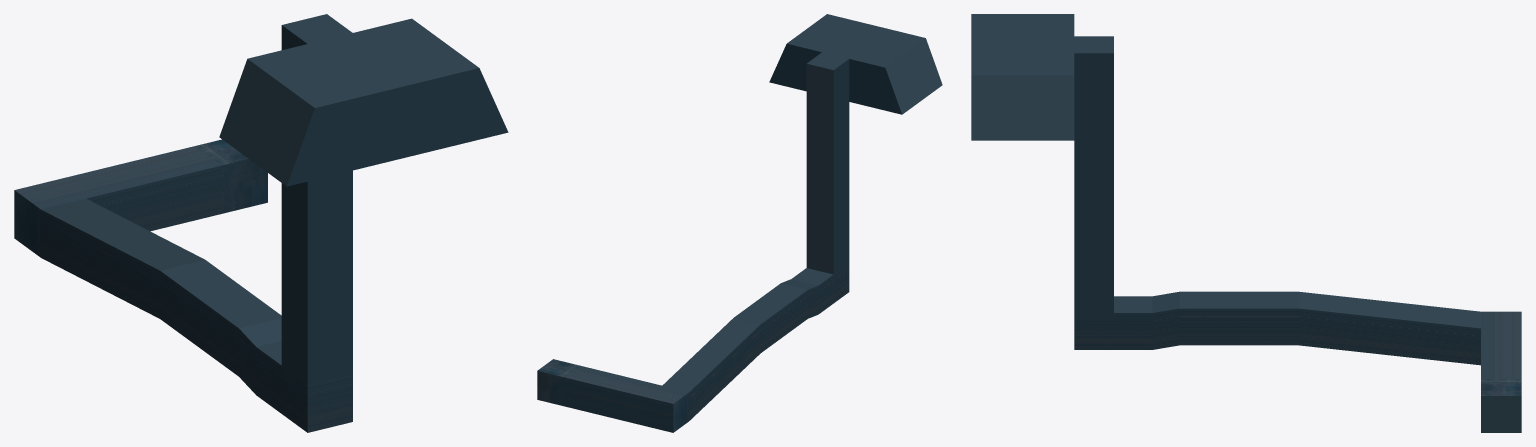
File: racecourse vent leftgoal.glb
3 views of the same model, side by side, from view 1: azimuth 30°, elevation 25°; view 2: azimuth 150°, elevation 25°; view 3: azimuth 270°, elevation 25° (orthographic). The views are drawn at different scales.
Parts seen in each view (by area): view 1: Cube, Cube.002, Cube.001; view 2: Cube, Cube.002, Cube.001; view 3: Cube, Cube.001, Cube.002.
Part boxes in pixels (box(x1,y1,x2,y2)): Cube: box(14, 14, 435, 432); Cube.002: box(219, 47, 359, 186); Cube.001: box(368, 18, 508, 150); Cube: box(537, 20, 898, 432); Cube.002: box(858, 31, 942, 114); Cube.001: box(769, 14, 853, 91); Cube: box(971, 31, 1521, 432); Cube.001: box(971, 58, 1074, 140); Cube.002: box(971, 14, 1074, 30).
Bounding box in the file's own units: 13.64 × 16.92 × 27.04.
Materials: 1 (1 with a texture image).
